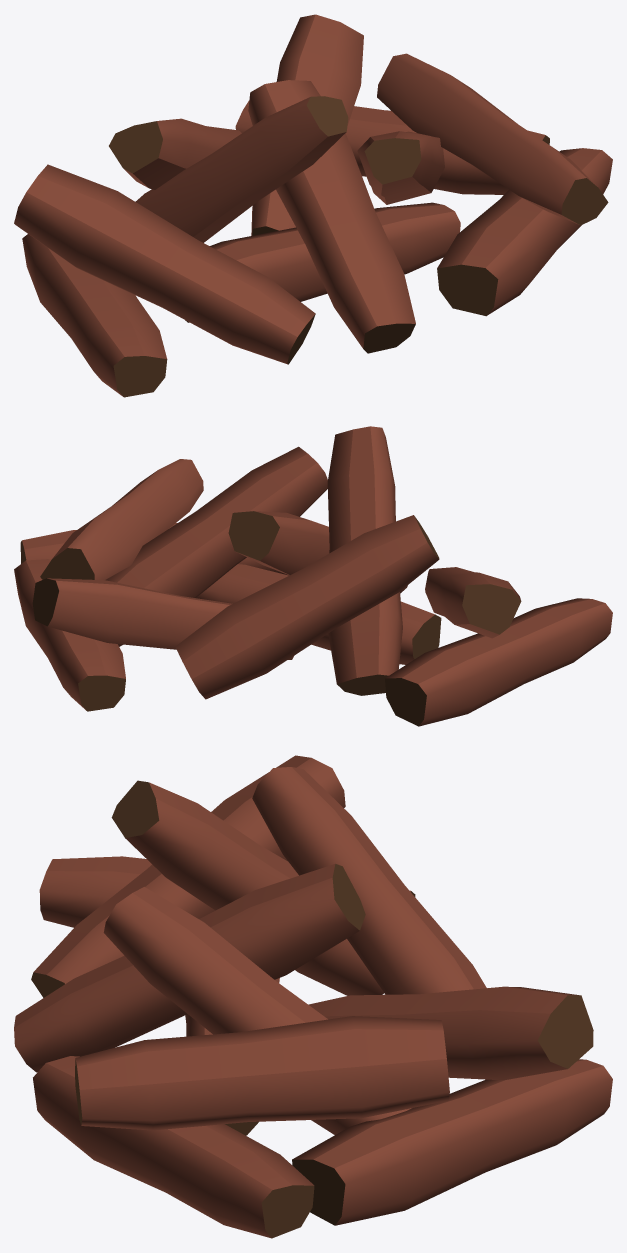
The model's file is CharcoalStack.fbx.
3 renders of one model, top to bottom at view 1: azimuth 30°, elevation 25°; view 2: azimuth 150°, elevation 25°; view 3: azimuth 270°, elevation 25°, orthographic. The views are drawn at different scales.
Parts seen in each view (by area): view 1: Charcoalstack; view 2: Charcoalstack; view 3: Charcoalstack.
Part boxes in pixels (bbox=[...]): Charcoalstack: bbox=[14, 14, 612, 397]; Charcoalstack: bbox=[14, 426, 612, 726]; Charcoalstack: bbox=[14, 755, 612, 1238].
Size of the model in its own units: 35.68 by 13.19 by 26.55.
